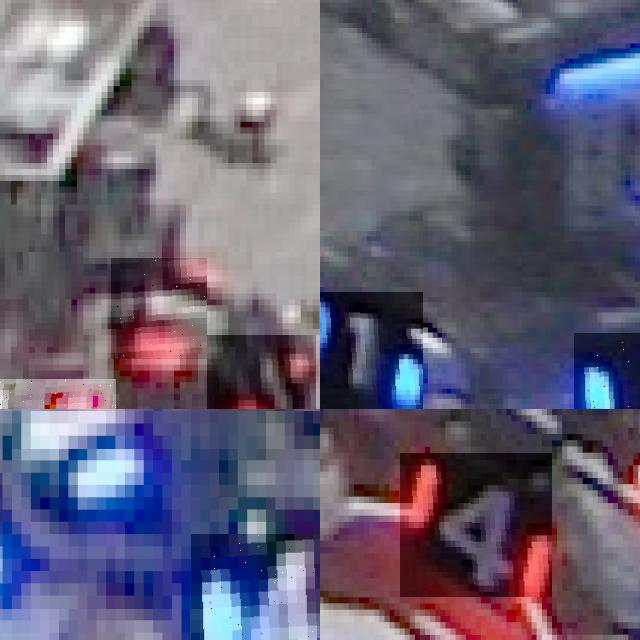B1: (320, 292, 423, 409), (573, 332, 640, 409)
B4: (190, 534, 320, 640)
R1: (111, 258, 207, 359), (207, 334, 315, 409)
R4: (400, 453, 552, 597)
